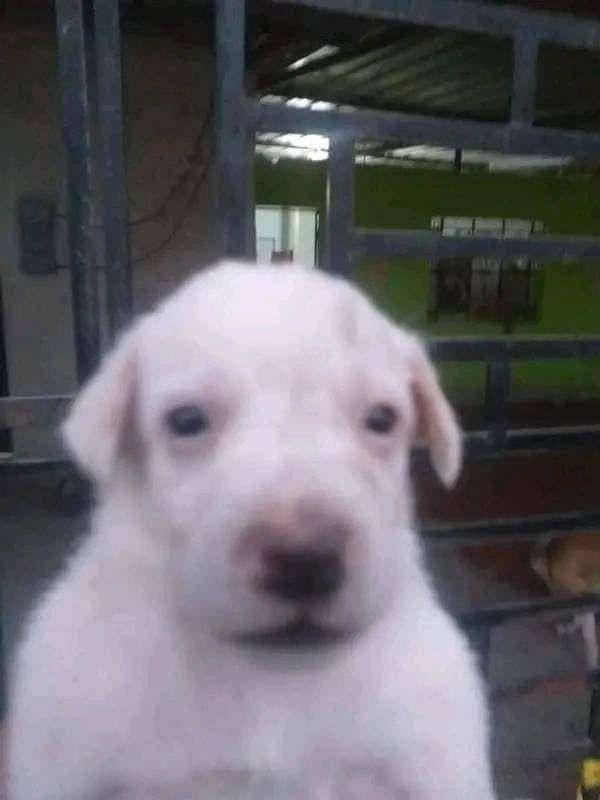puppy-dog: (3, 252, 494, 800)
